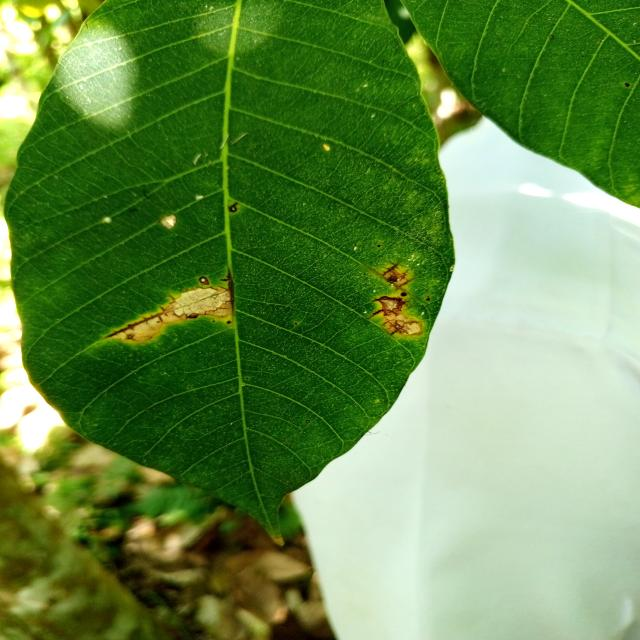Colletotrichum: (199, 276, 209, 285), (401, 292, 406, 297), (127, 335, 133, 339), (226, 321, 232, 324)
Corynespora: (104, 307, 168, 340), (368, 296, 405, 319), (382, 262, 411, 288), (222, 268, 235, 312), (381, 320, 408, 339), (228, 202, 239, 214), (625, 83, 629, 87)
Leaf-Blight: (168, 288, 231, 317), (387, 316, 420, 334), (382, 300, 397, 310)
